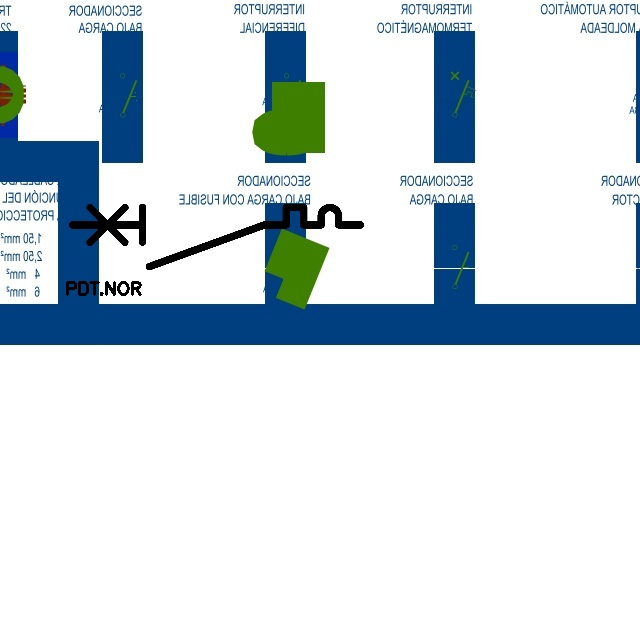interruptor_termomagnetico: (65, 200, 368, 274)
